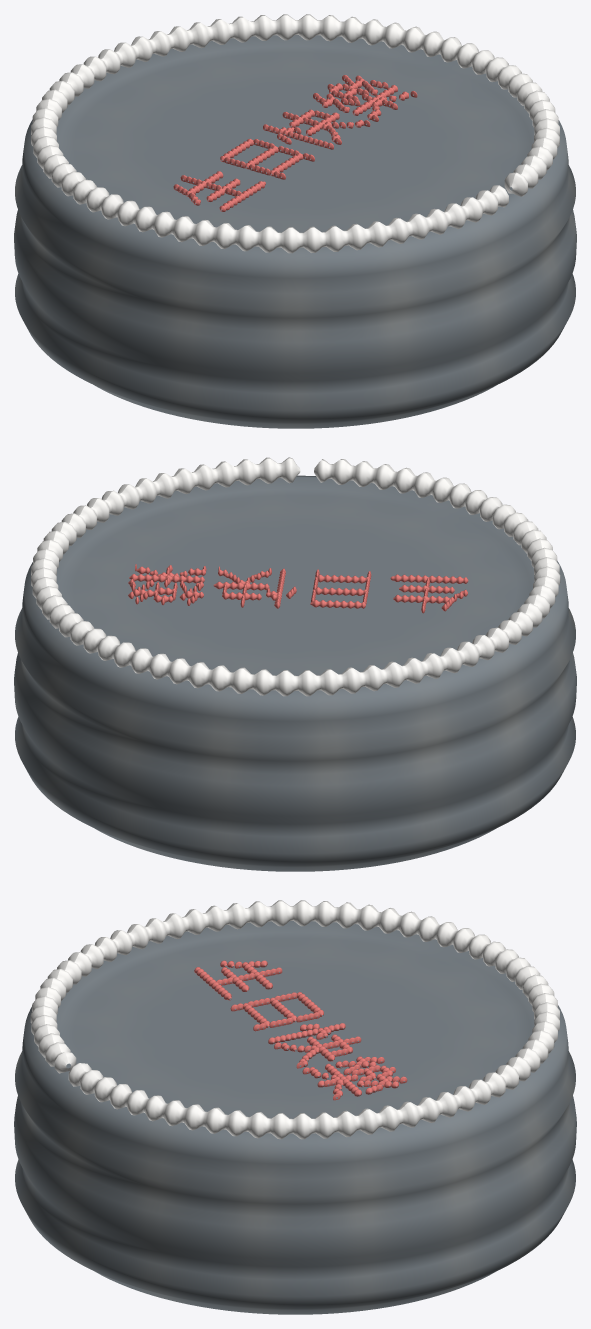
Rendered from cake.glb.
The picture shows the model from 3 angles, top to bottom: view 1: azimuth 30°, elevation 25°; view 2: azimuth 150°, elevation 25°; view 3: azimuth 270°, elevation 25°; orthographic projection.
Bounding box in the file's own units: 0.2558 × 0.1022 × 0.2558.
